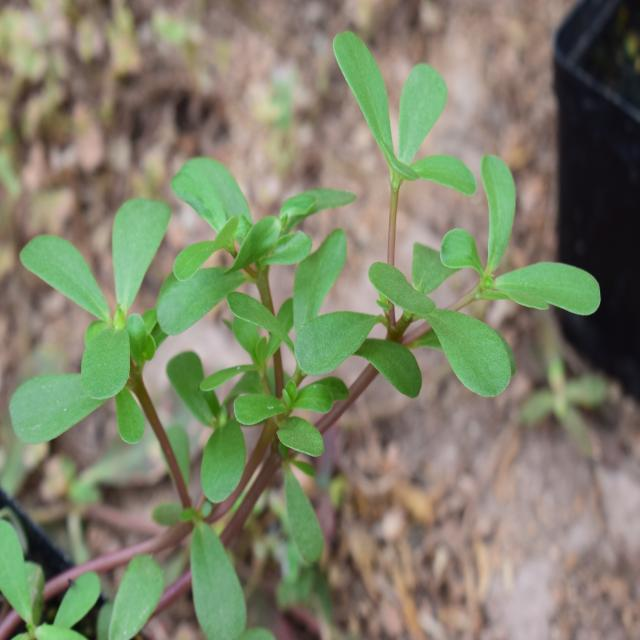purslane: (45, 34, 595, 596)
